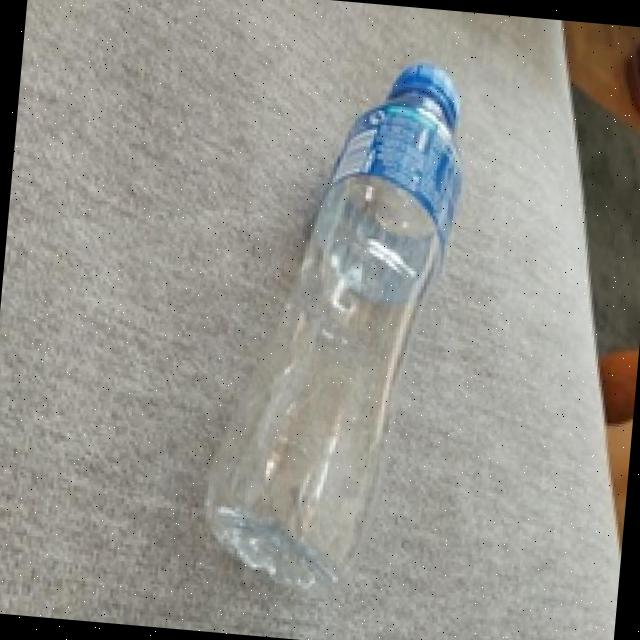bottle: (191, 33, 464, 620)
cap: (391, 62, 466, 110)
label: (308, 124, 484, 229)
